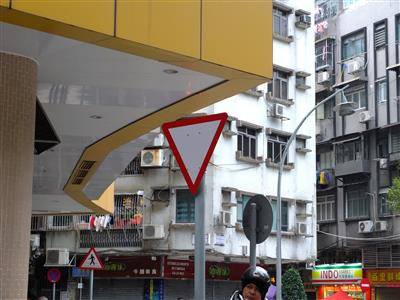noStopping: (43, 265, 63, 283)
pedestrianCrossingR: (77, 243, 107, 270)
yield: (158, 111, 232, 195)
